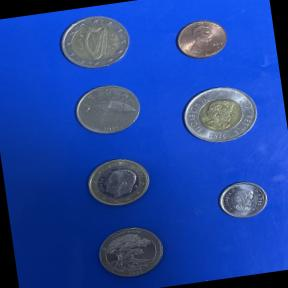coin: (174, 76, 266, 152), (52, 9, 136, 76), (90, 220, 171, 285), (67, 78, 148, 142), (79, 150, 156, 214), (210, 174, 274, 225), (171, 14, 233, 66)
